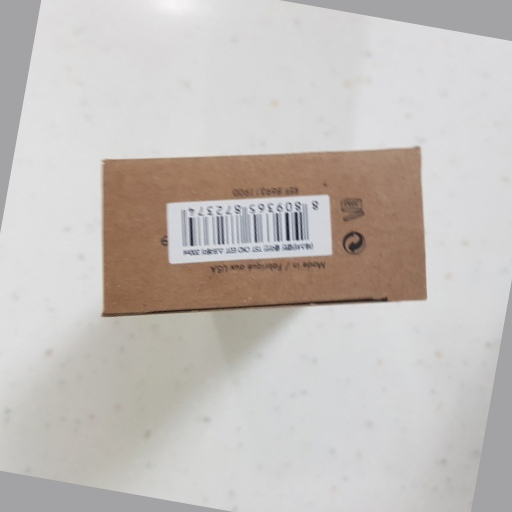Paper_0: (96, 144, 434, 321)
